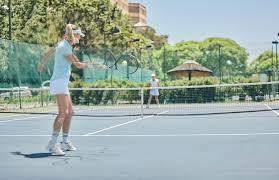ball_tennis: (122, 60, 127, 67)
